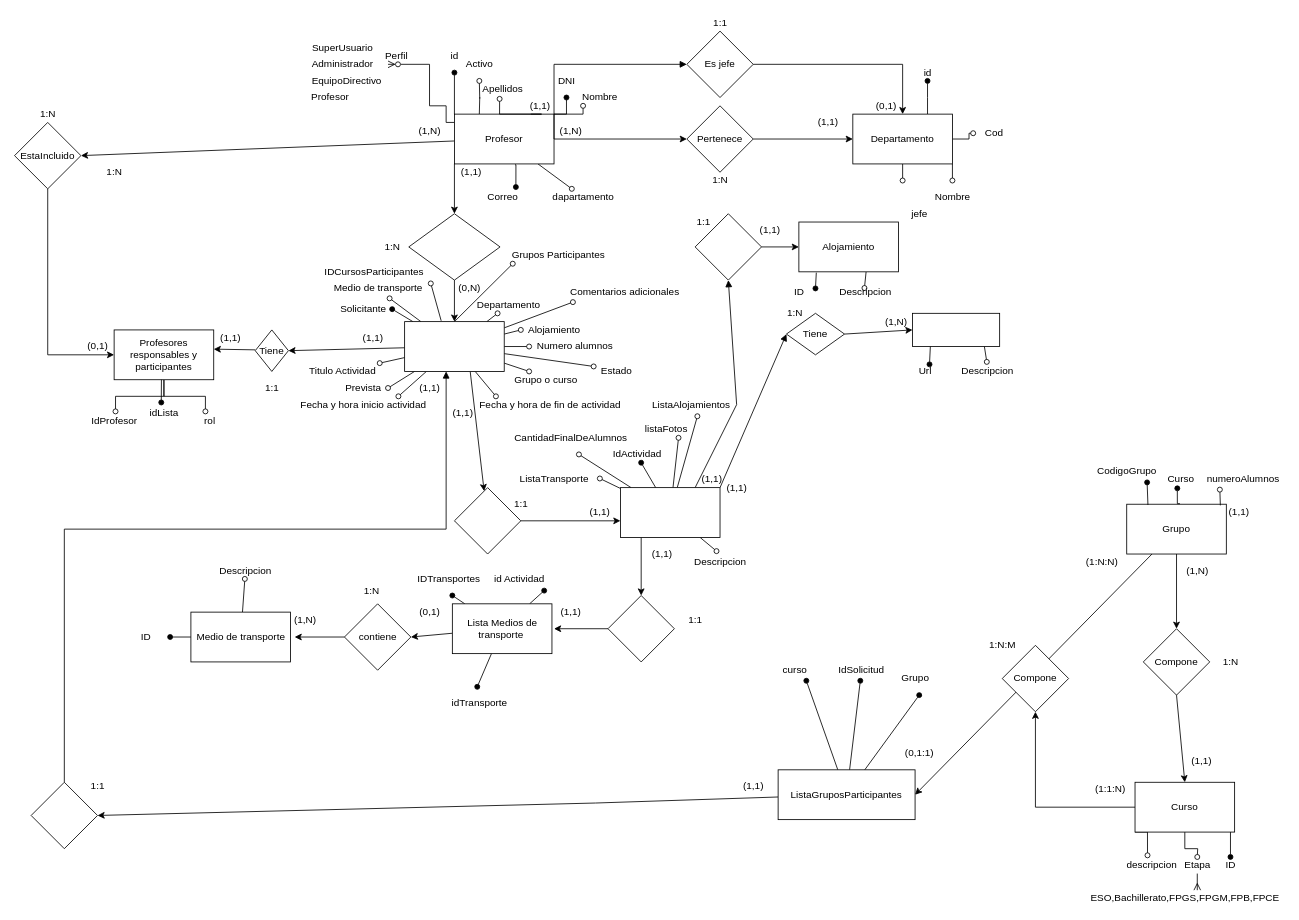
Image size: 1299x920. Some labels were removed from this diagram. The shapes that lost their labels are listed below. From the top down, each one's box as (x1, y1, x2, y2) in pixels, then its label:
(408, 213, 500, 280): Hace
(694, 213, 762, 280): Requiere
(404, 321, 504, 371): Solicitud
(912, 312, 1000, 347): Fotos
(454, 487, 521, 554): Procede
(620, 487, 720, 537): ACEX Programadas
(607, 595, 674, 662): Usa
(30, 781, 98, 849): Participa
